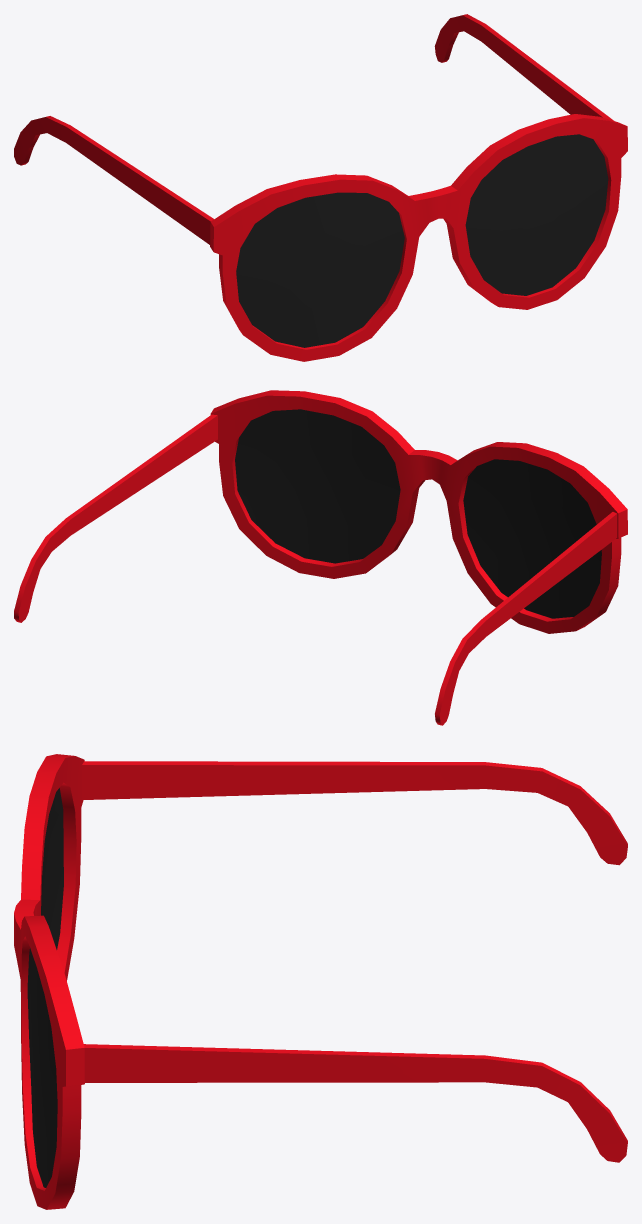
File: SummerSunglasses.fbx
3 views of the same model, one above another, from view 1: azimuth 30°, elevation 25°; view 2: azimuth 150°, elevation 25°; view 3: azimuth 270°, elevation 25° (orthographic). The views are drawn at different scales.
Parts seen in each view (by area): view 1: SummerSunglasses; view 2: SummerSunglasses; view 3: SummerSunglasses.
Boxes of the visible parts, <box> form: SummerSunglasses: <box>14,14,627,361</box>; SummerSunglasses: <box>14,390,627,725</box>; SummerSunglasses: <box>14,754,627,1209</box>.
Bounding box in the file's own units: 71.96 × 28.48 × 61.99.
